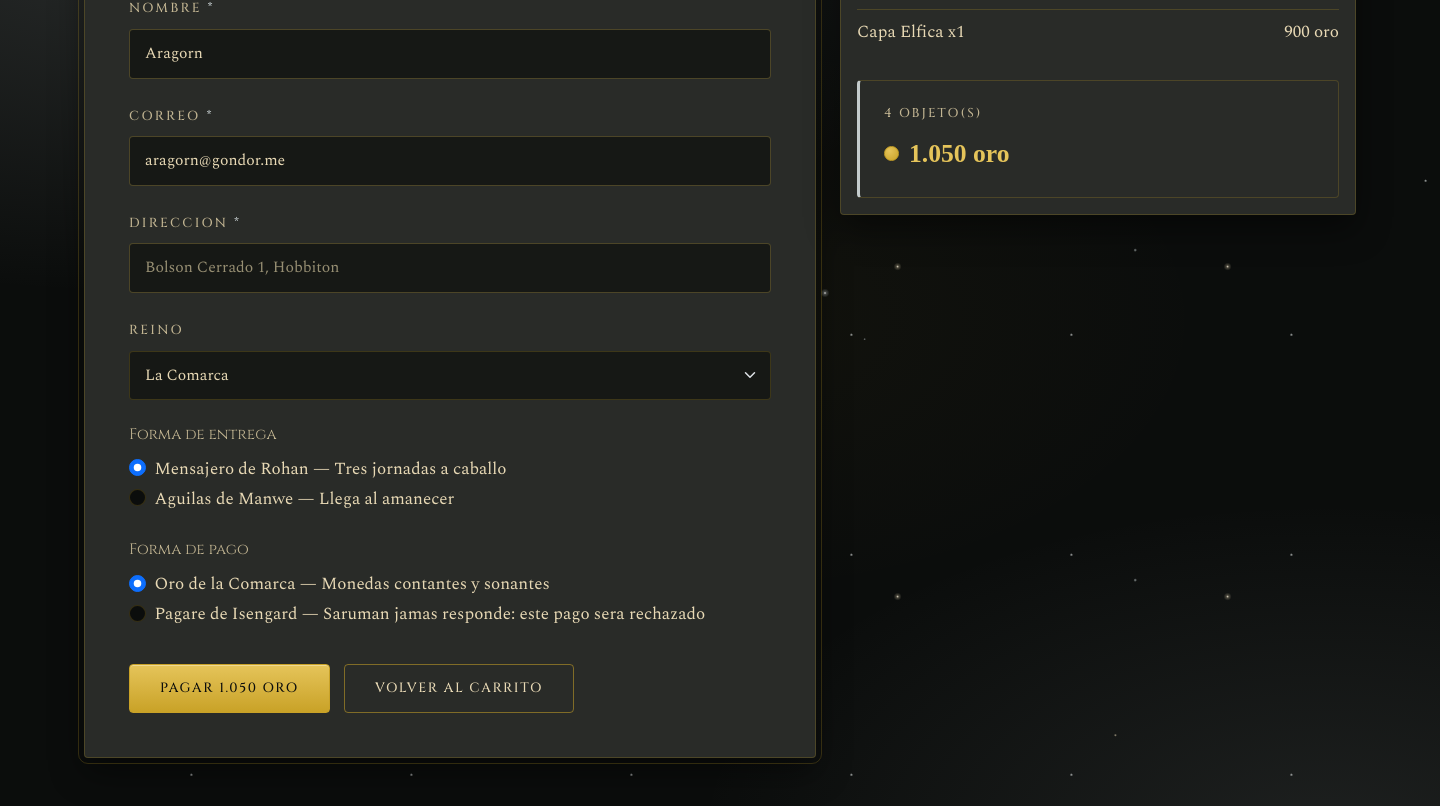
Test: Checkout › el formulario › quita el error en cuanto se corrige
(page scrolled)
Click the button "Pagar 1.050 oro" at (229, 688), box [129,664,330,713]
(page scrolled)
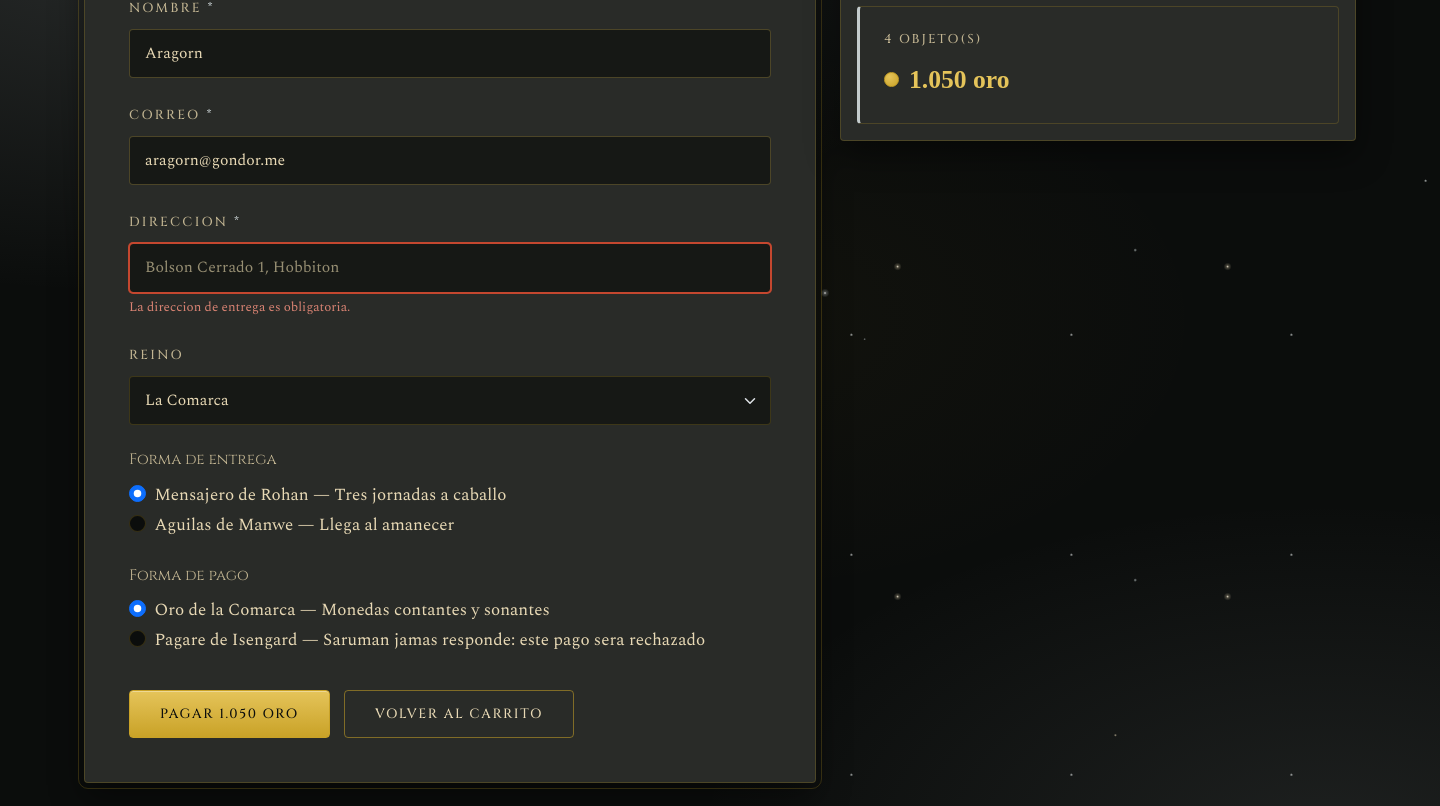
Now the text "La direccion de entrega es obligatoria." is shown, box [129,297,350,317]
Type "Ciudadela Blanca 7" into the field labelled "Direccion *" at (450, 268), box [129,243,771,293]
(page scrolled)
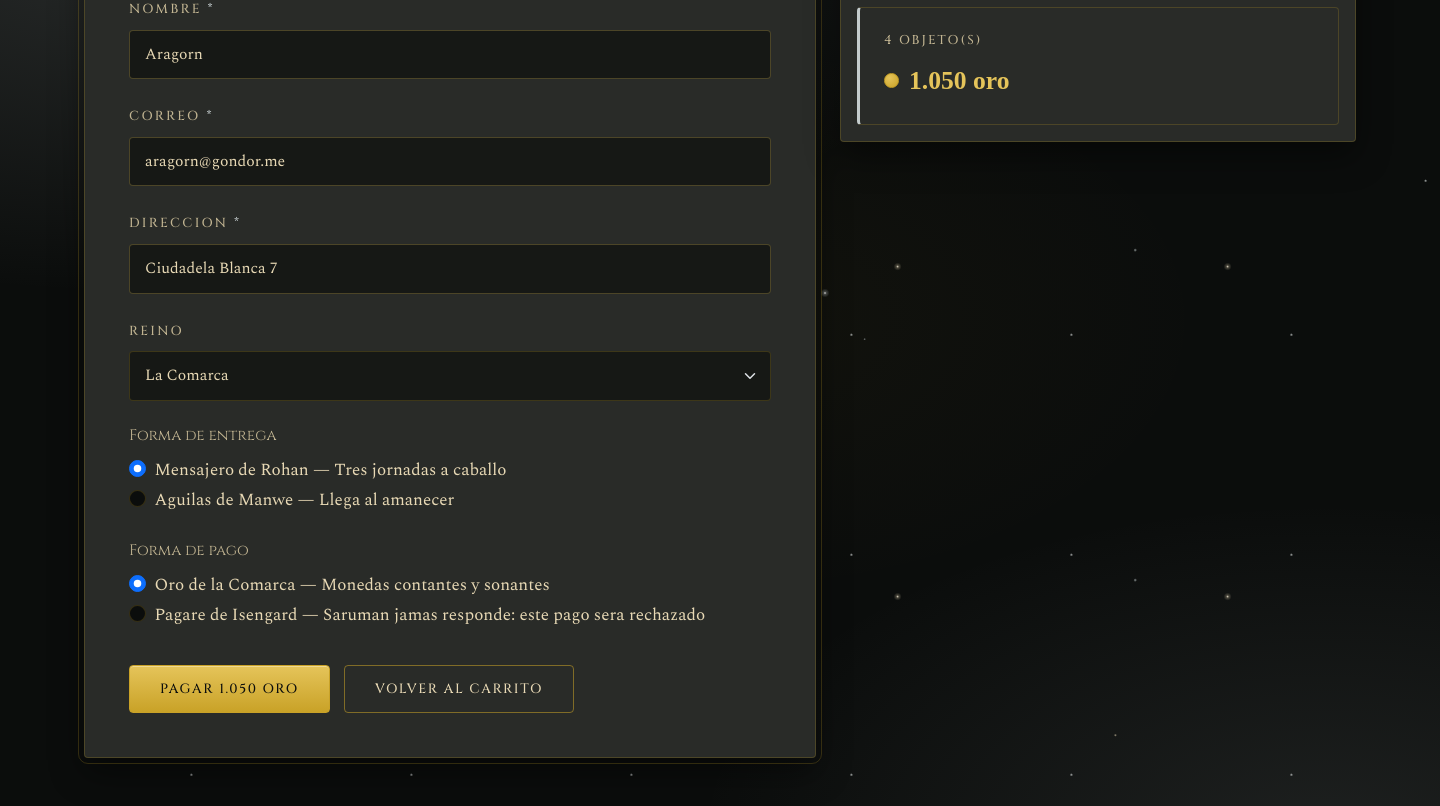
Now the text "La direccion de entrega es obligatoria." is gone
